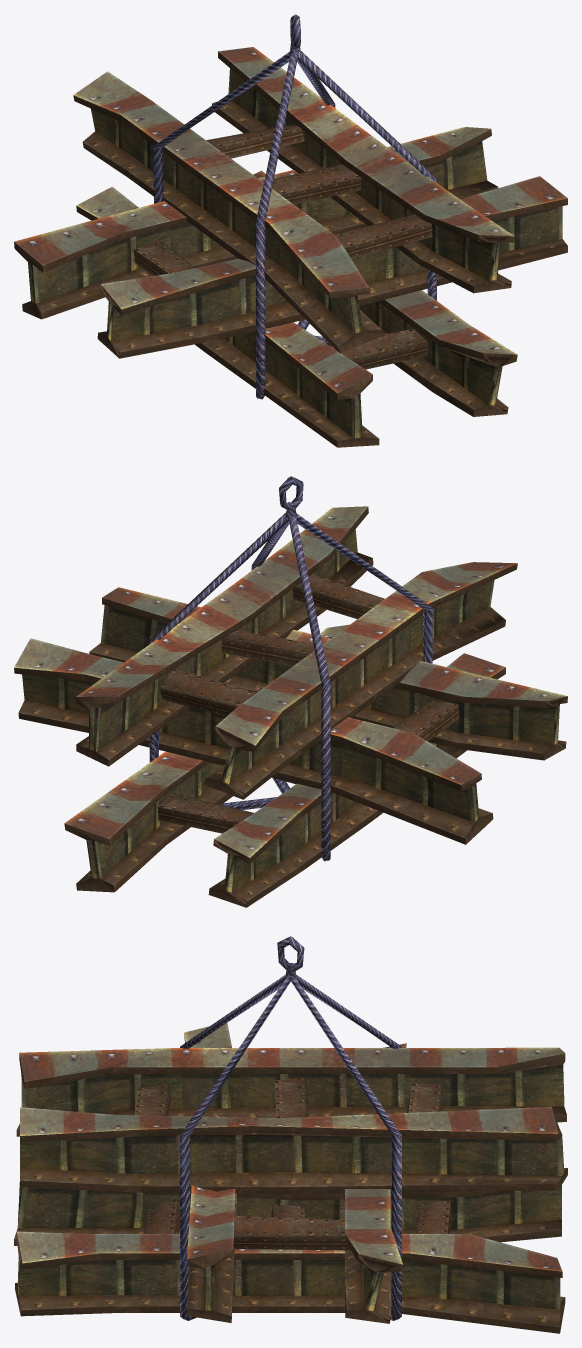
File: HangingScrap.gltf
3 renders of one model, top to bottom at view 1: azimuth 30°, elevation 25°; view 2: azimuth 150°, elevation 25°; view 3: azimuth 270°, elevation 25°, orthographic. The views are drawn at different scales.
Parts seen in each view (by area): view 1: HangingScrapMesh; view 2: HangingScrapMesh; view 3: HangingScrapMesh.
Part boxes in pixels (box(x1,y1,x2,y2)): HangingScrapMesh: box(14, 14, 567, 447); HangingScrapMesh: box(14, 476, 567, 907); HangingScrapMesh: box(14, 936, 567, 1333).
Size of the model in its own units: 4.05 by 2.87 by 4.07.
Materials: 3 (3 with a texture image).
